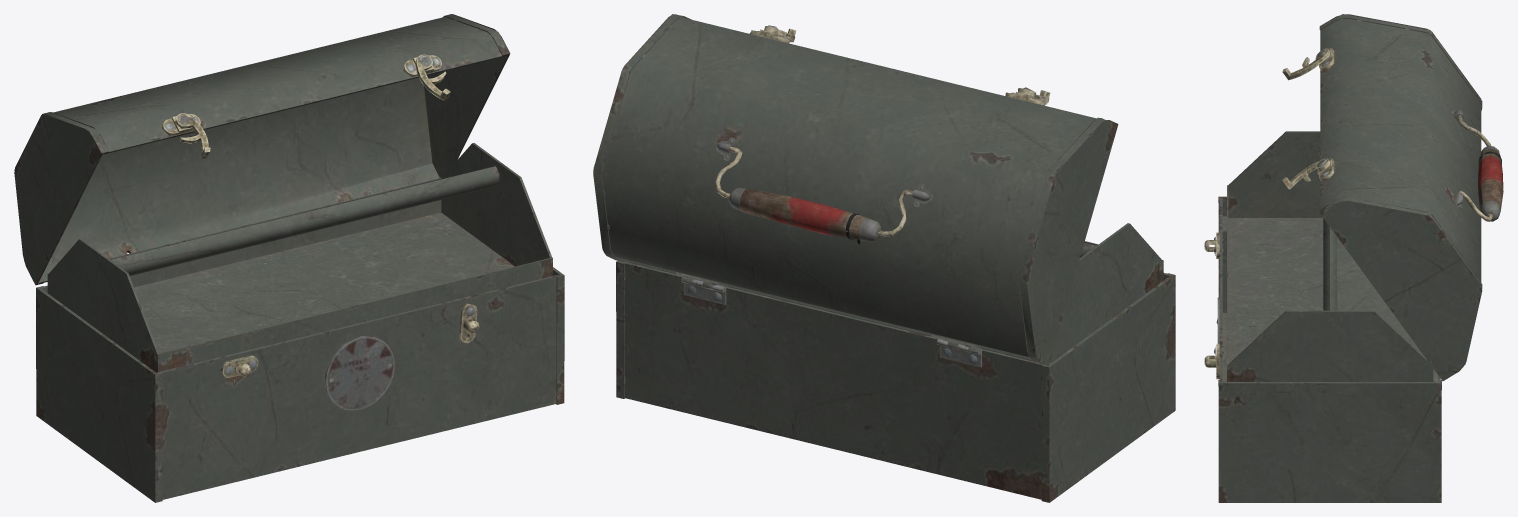
The model's file is ph_toolbox.gltf.
The picture shows the model from 3 angles, left to right: view 1: azimuth 30°, elevation 25°; view 2: azimuth 150°, elevation 25°; view 3: azimuth 270°, elevation 25°; orthographic projection. The views are drawn at different scales.
Visible parts, largest first — view 1: Body; view 2: Body; view 3: Body.
Part boxes in pixels (x1,y1,x2,y2): Body: [14, 14, 564, 502]; Body: [593, 14, 1175, 502]; Body: [1204, 14, 1503, 502].
Size of the model in its own units: 0.4 by 0.3049 by 0.2708.
Materials: 1 (1 with a texture image).
